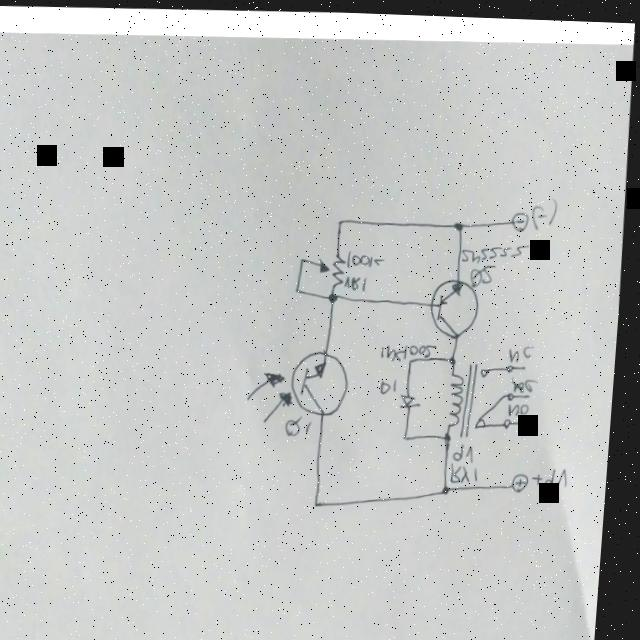diode: (403, 387, 427, 408)
junction: (448, 427, 459, 442), (318, 494, 329, 508), (447, 479, 458, 493), (407, 426, 418, 440), (409, 351, 420, 365), (331, 289, 342, 303), (297, 280, 308, 294), (337, 213, 348, 227), (456, 216, 467, 230), (452, 350, 462, 364), (301, 251, 311, 265)
resistor: (317, 243, 353, 291)
terminal: (517, 467, 537, 492), (513, 205, 532, 229), (525, 359, 533, 369), (525, 413, 532, 424), (530, 389, 537, 399)
text: (461, 237, 534, 286), (346, 246, 390, 292), (385, 337, 442, 363), (455, 440, 486, 481), (532, 192, 561, 230), (538, 460, 575, 488), (290, 411, 319, 437), (512, 338, 541, 361), (516, 369, 541, 391), (383, 373, 404, 394), (512, 395, 535, 414)
transistor: (249, 345, 357, 428), (432, 274, 485, 340)
